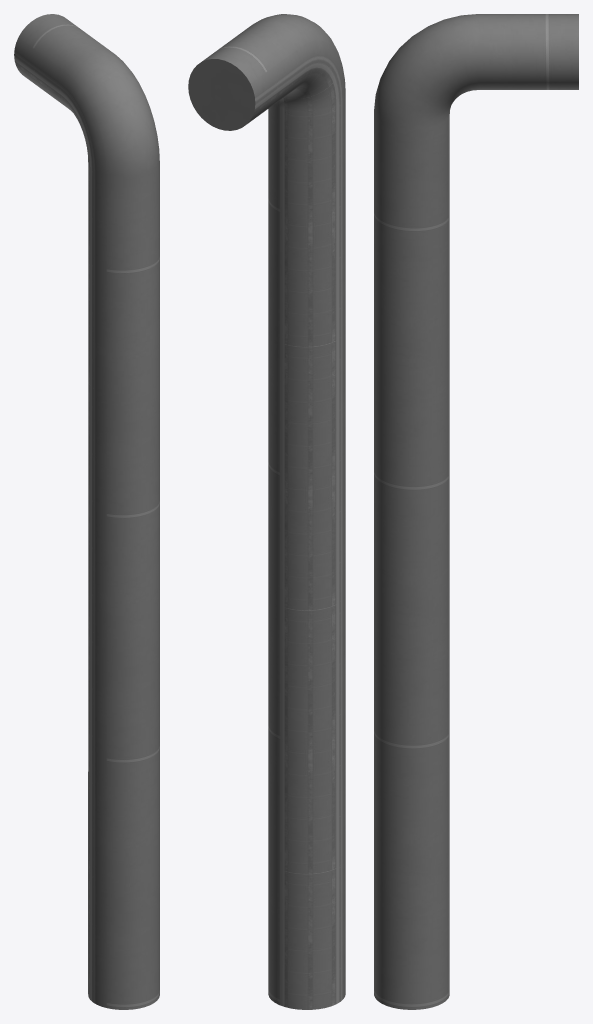
File: SM_pipe_01.glb
3 renders of one model, left to right at view 1: azimuth 30°, elevation 25°; view 2: azimuth 150°, elevation 25°; view 3: azimuth 270°, elevation 25°, orthographic. The views are drawn at different scales.
Parts seen in each view (by area): view 1: SM_pipe_01; view 2: SM_pipe_01; view 3: SM_pipe_01.
Boxes of the visible parts, x1,y1,x2,y2 form: SM_pipe_01: (14, 14, 159, 1009); SM_pipe_01: (188, 14, 345, 1009); SM_pipe_01: (374, 14, 578, 1009).
Size of the model in its own units: 0.32 by 4.54 by 0.8625.
1 material, 1 textured.
